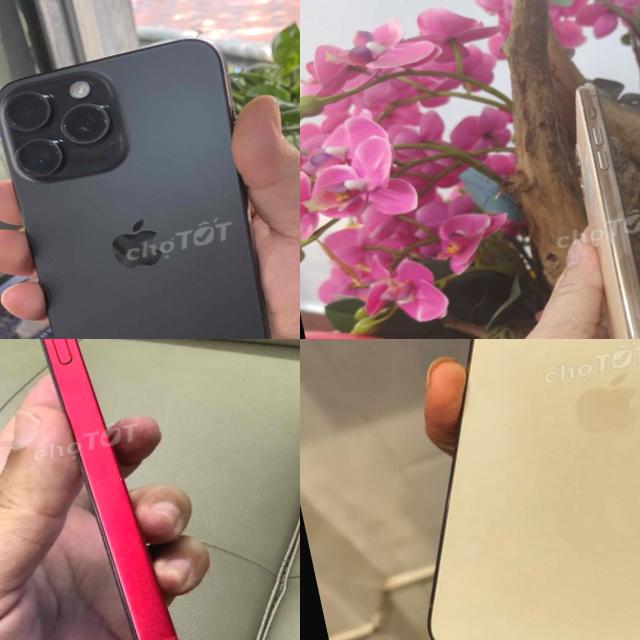gen_11: (545, 77, 640, 339)
gen_12_13: (337, 339, 640, 640)
gen_14: (0, 339, 215, 640)
gen_15: (0, 30, 300, 339)
